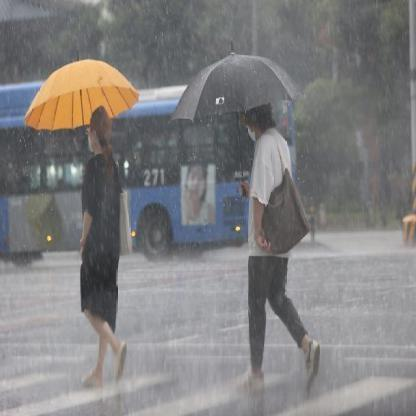Umbrella: (162, 34, 306, 144), (22, 53, 150, 145)
